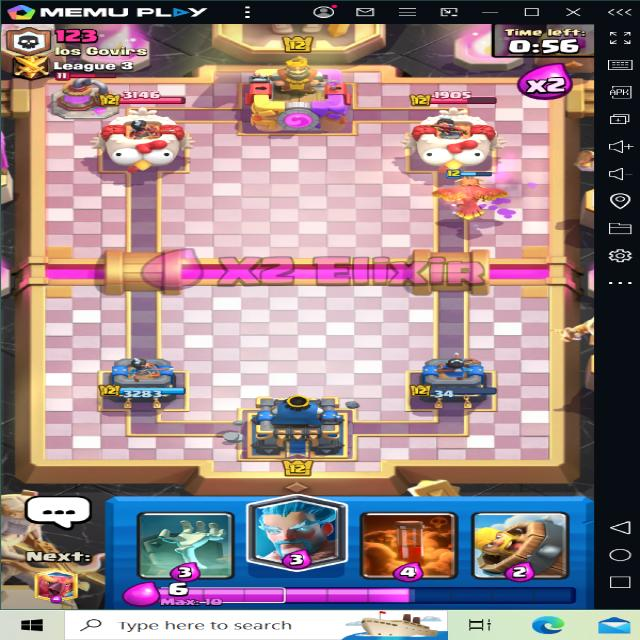elixir-collector: (50, 69, 119, 116)
